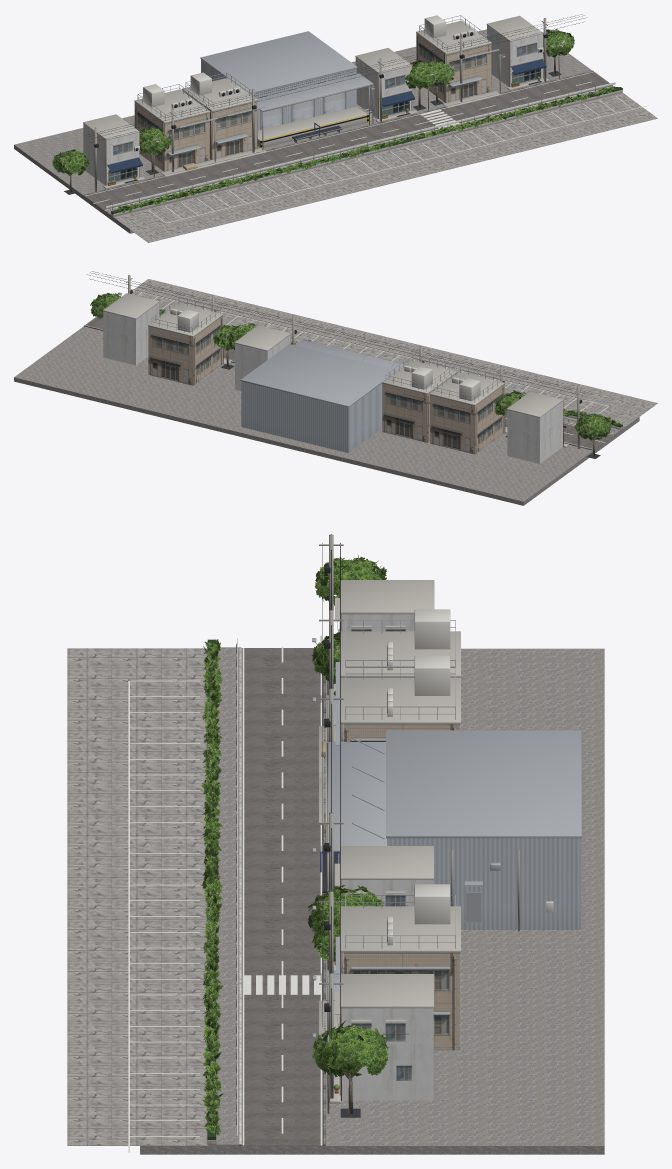
The model's file is town.glb.
3 views of the same model, one above another, from view 1: azimuth 30°, elevation 25°; view 2: azimuth 150°, elevation 25°; view 3: azimuth 270°, elevation 25° (orthographic). The views are drawn at different scales.
Parts seen in each view (by area): view 1: town; view 2: town; view 3: town.
Part boxes in pixels (x1,y1,x2,y2): town: (14, 14, 657, 242); town: (14, 271, 657, 505); town: (67, 534, 604, 1154).
Bounding box in the file's own units: 80.63 × 9.7 × 34.7.
36 materials, 13 textured.
